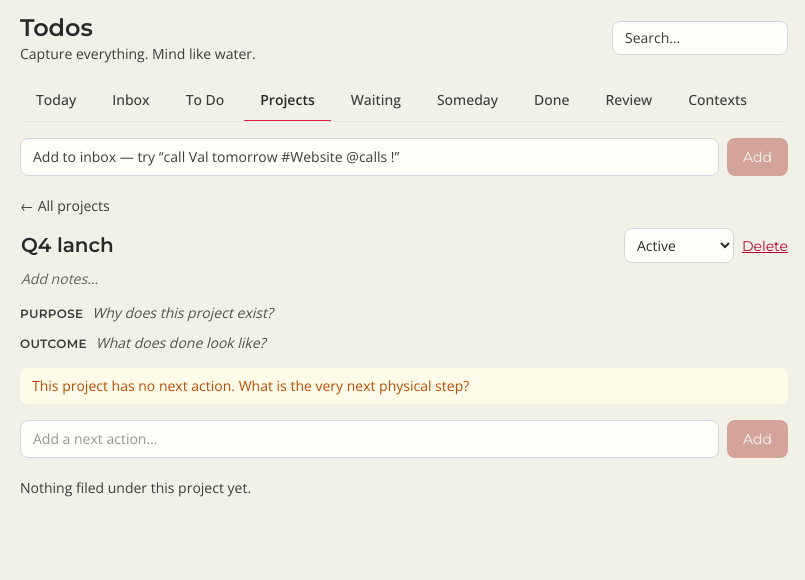
Scenario: ProjectDetailPage — inline notes edit (#232) › offers a clickable placeholder when the project has no notes
This screenshot has width=805, height=580.
What coordinates should you click on to do the following:
click the button titled "Click to edit"
I would click on:
 (60, 279)
Its box is left=16, top=266, right=103, bottom=292.
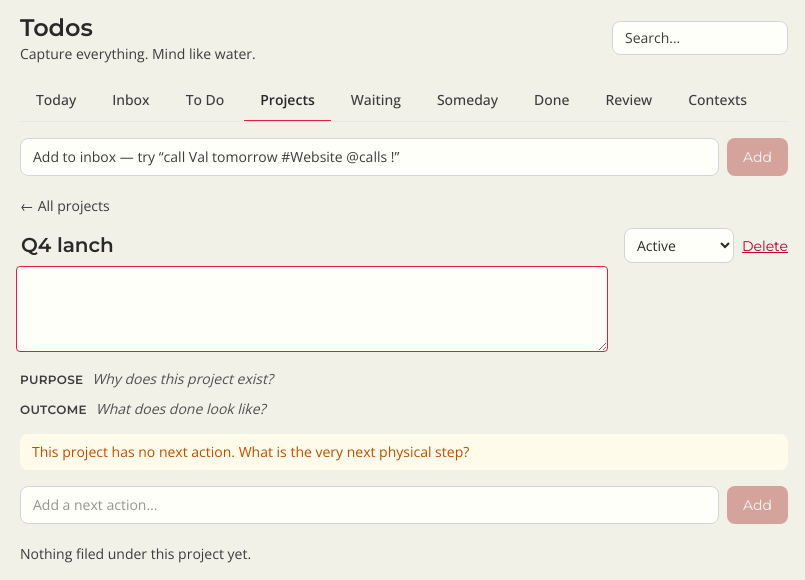
Check: the text box named "Project notes" is shown, box left=16, top=266, right=608, bottom=352
